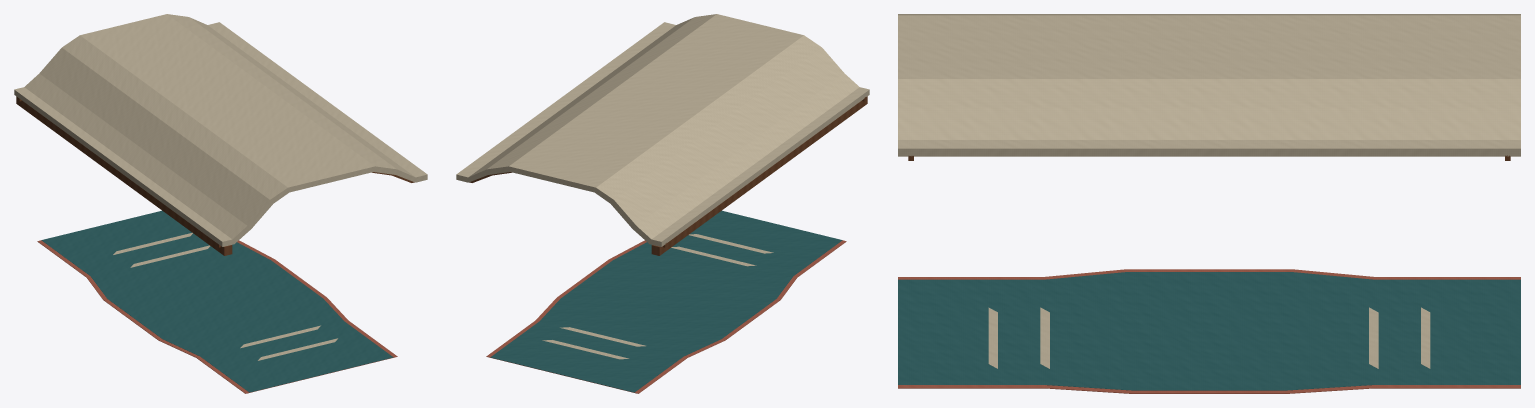
Rendered from AST-ARR-001.glb.
3 views of the same model, side by side, from view 1: azimuth 30°, elevation 25°; view 2: azimuth 150°, elevation 25°; view 3: azimuth 270°, elevation 25° (orthographic). The views are drawn at different scales.
Visible parts, largest first — view 1: ARR_oatmeal_weave, ARR_teal_weave, ARR_clay_weave, ARR_warm_walnut; view 2: ARR_oatmeal_weave, ARR_teal_weave, ARR_clay_weave, ARR_warm_walnut; view 3: ARR_oatmeal_weave, ARR_teal_weave, ARR_clay_weave.
Boxes of the visible parts, box(x1,y1,x2,y2) form: ARR_oatmeal_weave: box(14, 14, 427, 360); ARR_teal_weave: box(41, 210, 393, 392); ARR_clay_weave: box(37, 240, 397, 393); ARR_warm_walnut: box(16, 96, 414, 255); ARR_oatmeal_weave: box(456, 14, 869, 359); ARR_teal_weave: box(490, 210, 842, 392); ARR_clay_weave: box(486, 240, 846, 393); ARR_warm_walnut: box(469, 96, 867, 255); ARR_oatmeal_weave: box(898, 14, 1520, 368); ARR_teal_weave: box(898, 272, 1520, 390); ARR_clay_weave: box(898, 269, 1520, 393).
Size of the model in its own units: 4.1 by 3.74 by 7.2.
6 materials, 5 textured.
